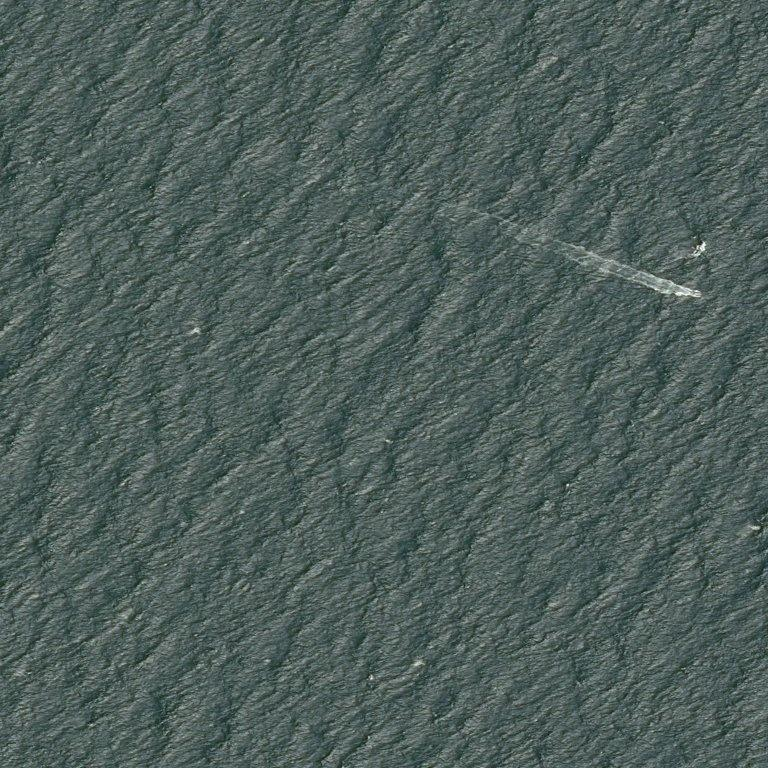ship: (685, 289, 706, 296), (689, 288, 693, 291), (699, 293, 702, 296), (689, 63, 690, 64)
